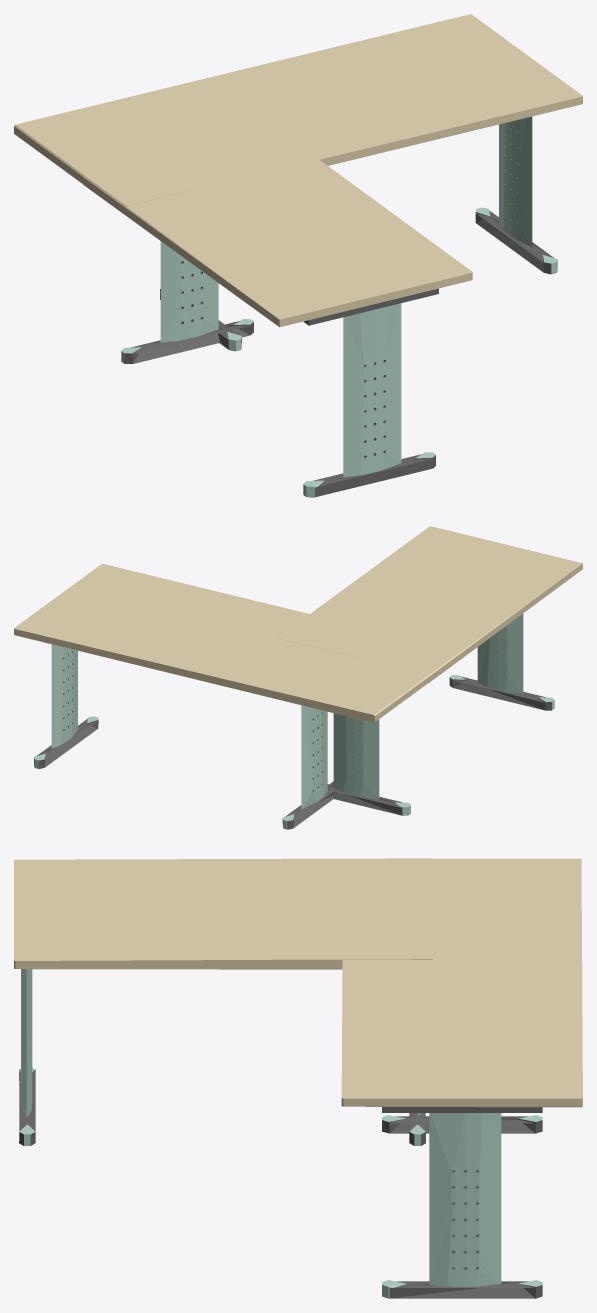
3 views of the same model, one above another, from view 1: azimuth 30°, elevation 25°; view 2: azimuth 150°, elevation 25°; view 3: azimuth 270°, elevation 25° (orthographic). The views are drawn at different scales.
Parts seen in each view (by area): view 1: obj0_001; view 2: obj0_001; view 3: obj0_001.
Part boxes in pixels (box(x1,y1,x2,y2)): obj0_001: box(14, 14, 582, 497); obj0_001: box(14, 526, 582, 829); obj0_001: box(14, 858, 582, 1298).
Bounding box in the file's own units: 1.9 × 1.91 × 0.755.
